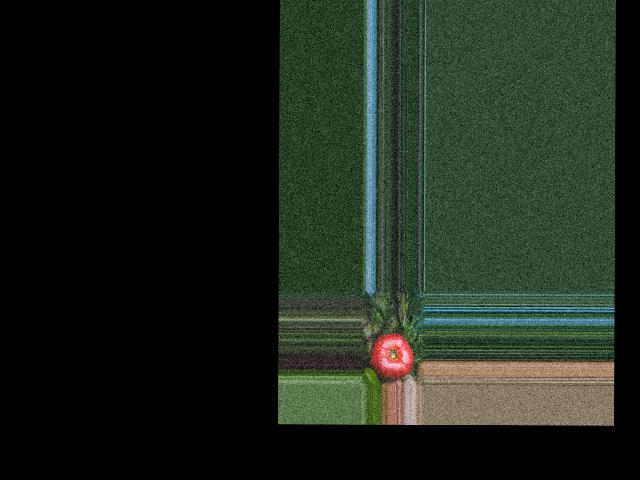tomato: (368, 333, 413, 382)
